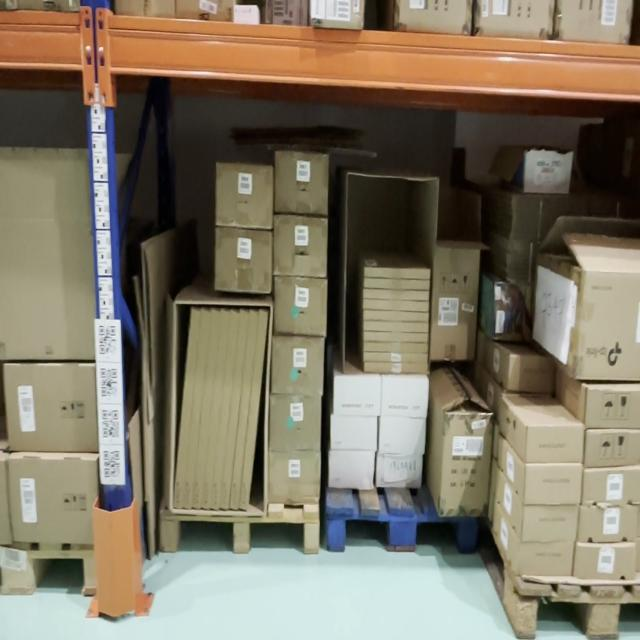box: (5, 366, 96, 455), (8, 460, 98, 546), (220, 310, 250, 509), (239, 311, 269, 508), (439, 412, 494, 518), (230, 311, 259, 509), (431, 245, 480, 359), (212, 312, 240, 510), (203, 308, 229, 510), (194, 309, 220, 508), (185, 311, 209, 511), (175, 310, 198, 507), (215, 230, 271, 292), (219, 166, 269, 226), (274, 152, 326, 209), (269, 396, 321, 449), (270, 450, 321, 504), (276, 217, 326, 272), (275, 282, 327, 334), (274, 340, 323, 392), (527, 422, 583, 466), (583, 462, 639, 506), (580, 502, 639, 543), (523, 504, 580, 544), (574, 544, 633, 579), (525, 467, 583, 502), (334, 375, 380, 416), (384, 380, 427, 420), (380, 418, 425, 454), (522, 545, 572, 577), (330, 455, 374, 490), (332, 418, 378, 451), (380, 452, 420, 487), (365, 266, 432, 278), (363, 288, 430, 300), (364, 331, 430, 343), (364, 278, 431, 288), (364, 363, 428, 373), (366, 343, 429, 353), (362, 301, 430, 310), (364, 312, 430, 321), (363, 354, 430, 362), (364, 323, 429, 330)
